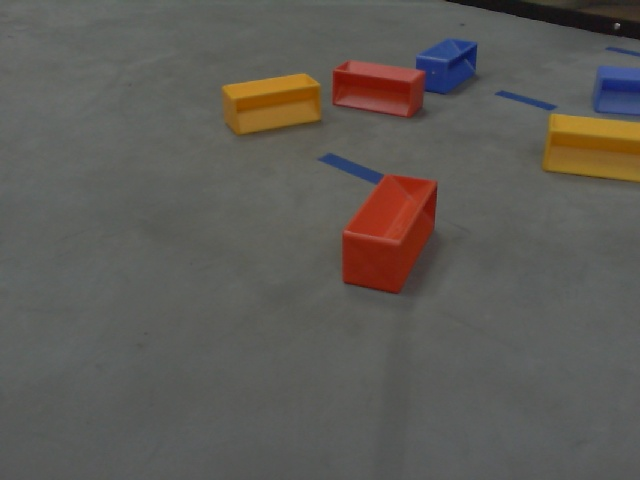BlueSample: (412, 38, 479, 96), (587, 64, 640, 119)
RedSample: (333, 169, 446, 296), (328, 55, 431, 121)
YellowSample: (539, 113, 640, 181), (221, 71, 324, 135)
